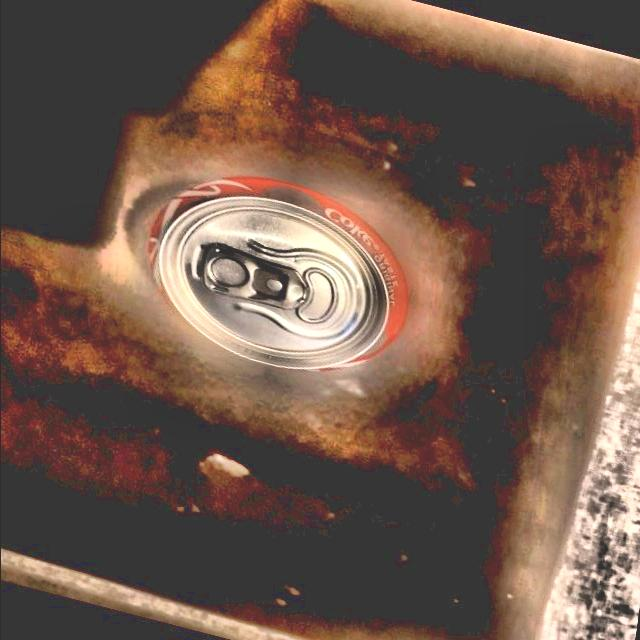coke-can: (146, 164, 412, 368)
